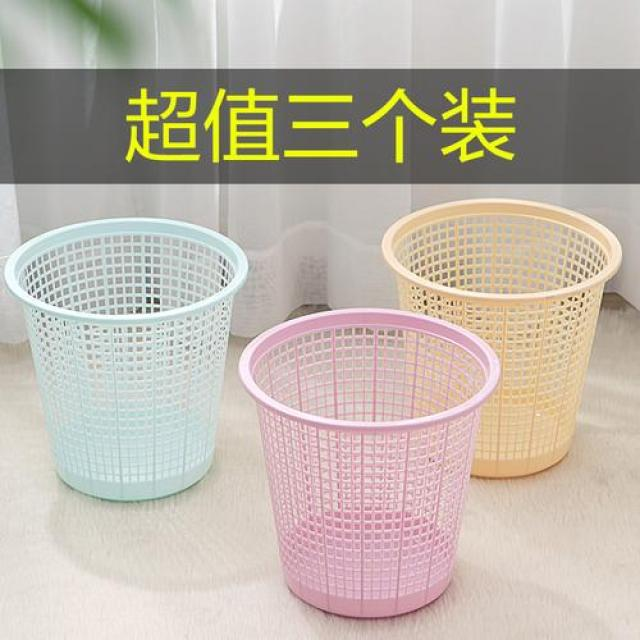dustbin: (243, 305, 504, 626), (1, 211, 259, 508), (377, 195, 624, 492)
